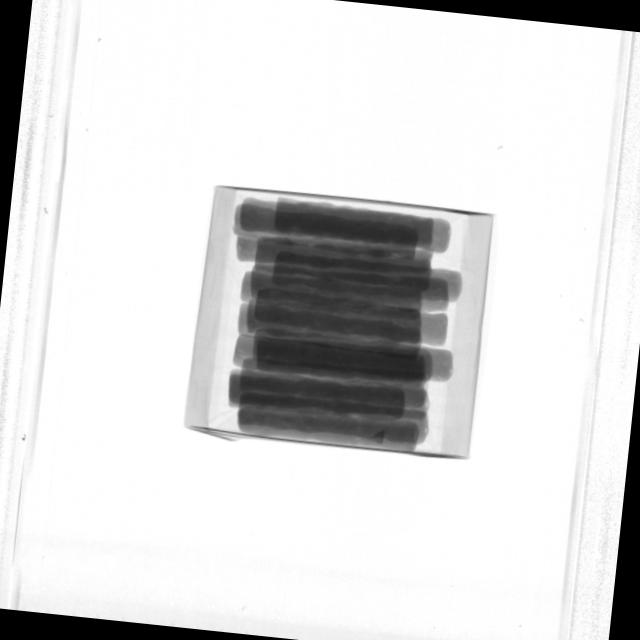ym: (368, 429, 386, 444)
